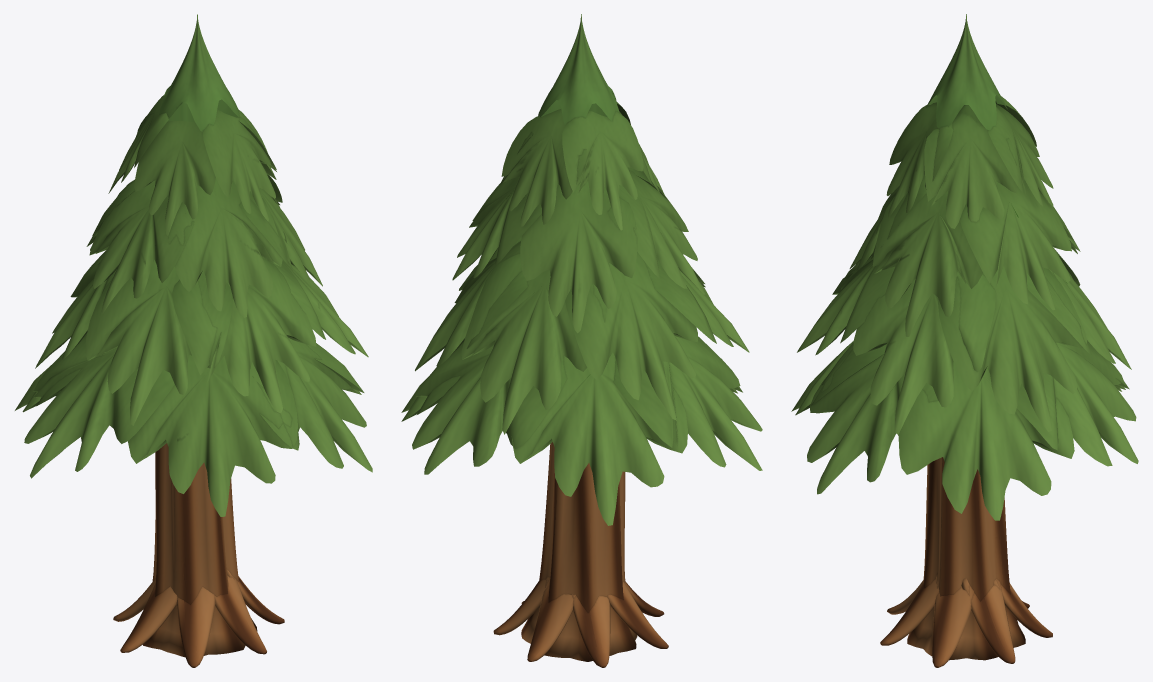
File: WoodResourceSource.fbx
3 renders of one model, left to right at view 1: azimuth 30°, elevation 25°; view 2: azimuth 150°, elevation 25°; view 3: azimuth 270°, elevation 25°, orthographic.
Visible parts, largest first — view 1: WoodSource; view 2: WoodSource; view 3: WoodSource.
Boxes of the visible parts, <box> form: WoodSource: <box>15,14,372,667</box>; WoodSource: <box>401,14,762,667</box>; WoodSource: <box>791,14,1138,667</box>.
Bounding box in the file's own units: 1.3 × 2.29 × 1.16.
Materials: 1 (1 with a texture image).
